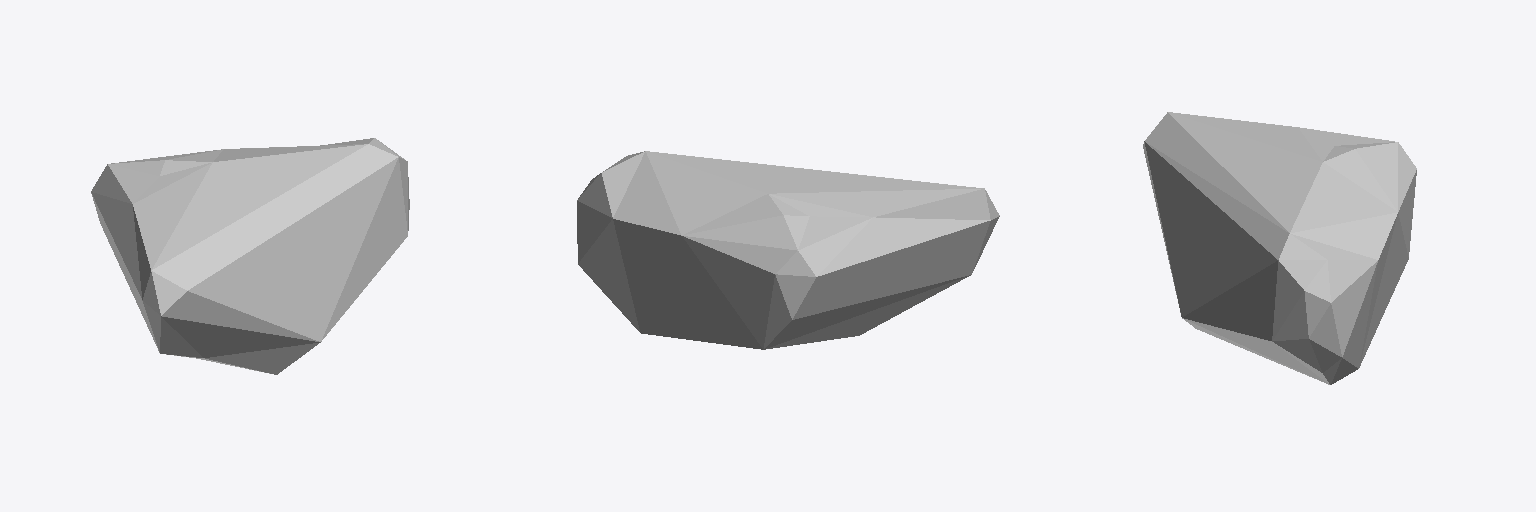
File: Stone_2.obj
The picture shows the model from 3 angles: view 1: azimuth 30°, elevation 25°; view 2: azimuth 150°, elevation 25°; view 3: azimuth 270°, elevation 25°; orthographic projection.
Visible parts, largest first — view 1: Stone_2; view 2: Stone_2; view 3: Stone_2.
Boxes of the visible parts, box(x1,y1,x2,y2) form: Stone_2: box(91, 138, 409, 374); Stone_2: box(577, 151, 999, 349); Stone_2: box(1143, 112, 1416, 384).
Bounding box in the file's own units: 1.18 × 0.5563 × 0.8301.